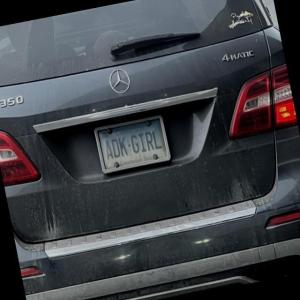Plate: (94, 114, 172, 175)
